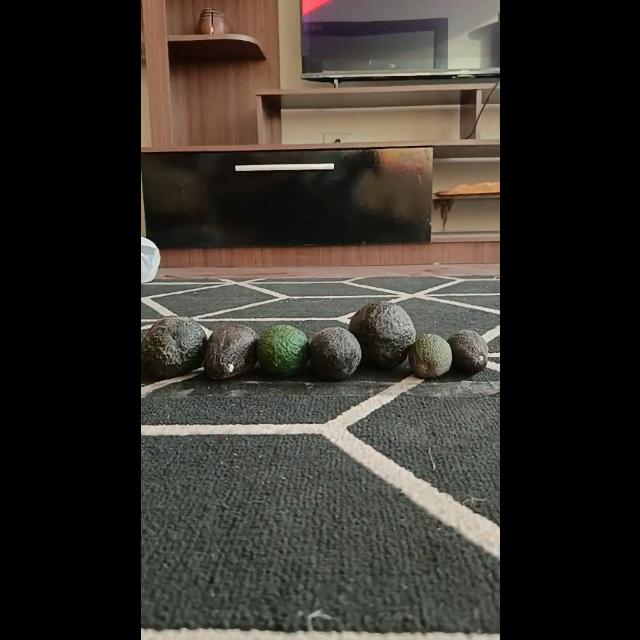Primera: (347, 300, 415, 368), (140, 316, 206, 378)
Segunda: (202, 324, 260, 381), (308, 326, 362, 379), (256, 324, 308, 376)
Tercera: (408, 333, 452, 379), (446, 329, 488, 375)
